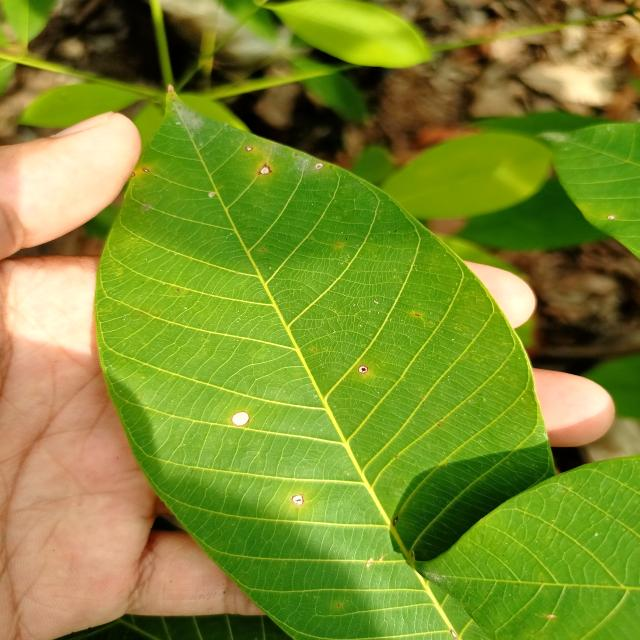Colletotrichum: (232, 411, 250, 427), (258, 164, 272, 175), (292, 494, 304, 506), (358, 365, 368, 374), (315, 163, 324, 170), (246, 147, 253, 152), (143, 168, 149, 172), (260, 249, 264, 251), (313, 349, 316, 351)
